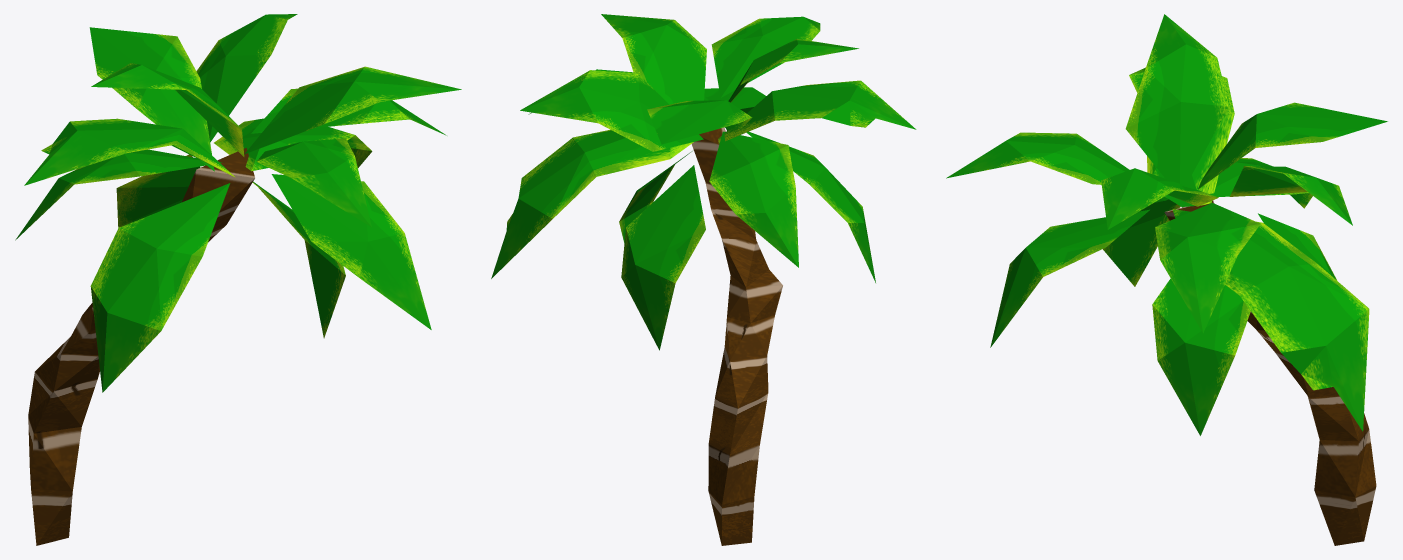
Rendered from PalmeiraLOD2.fbx.
3 renders of one model, left to right at view 1: azimuth 30°, elevation 25°; view 2: azimuth 150°, elevation 25°; view 3: azimuth 270°, elevation 25°, orthographic. The views are drawn at different scales.
Parts seen in each view (by area): view 1: PalmeiraLOD2; view 2: PalmeiraLOD2; view 3: PalmeiraLOD2.
Part boxes in pixels (x1,y1,x2,y2): PalmeiraLOD2: (15,14,461,545); PalmeiraLOD2: (491,14,916,545); PalmeiraLOD2: (946,14,1387,545).
Bounding box in the file's own units: 370 × 425 × 340.
